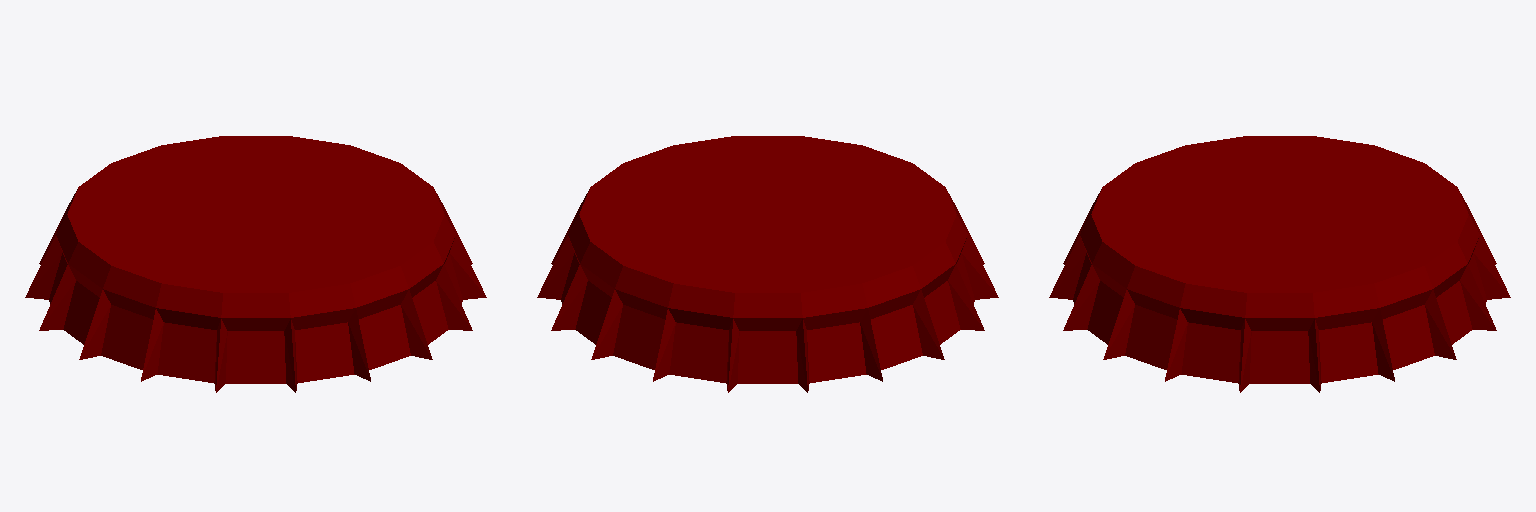
File: Bottle_Cap.obj
3 renders of one model, left to right at view 1: azimuth 30°, elevation 25°; view 2: azimuth 150°, elevation 25°; view 3: azimuth 270°, elevation 25°, orthographic.
Parts seen in each view (by area): view 1: Cylinder_Cylinder.001; view 2: Cylinder_Cylinder.001; view 3: Cylinder_Cylinder.001.
Boxes of the visible parts, box(x1,y1,x2,y2) form: Cylinder_Cylinder.001: box(25, 136, 486, 392); Cylinder_Cylinder.001: box(537, 136, 998, 392); Cylinder_Cylinder.001: box(1049, 136, 1510, 392).
Size of the model in its own units: 0.0356 by 0.0072 by 0.0361.